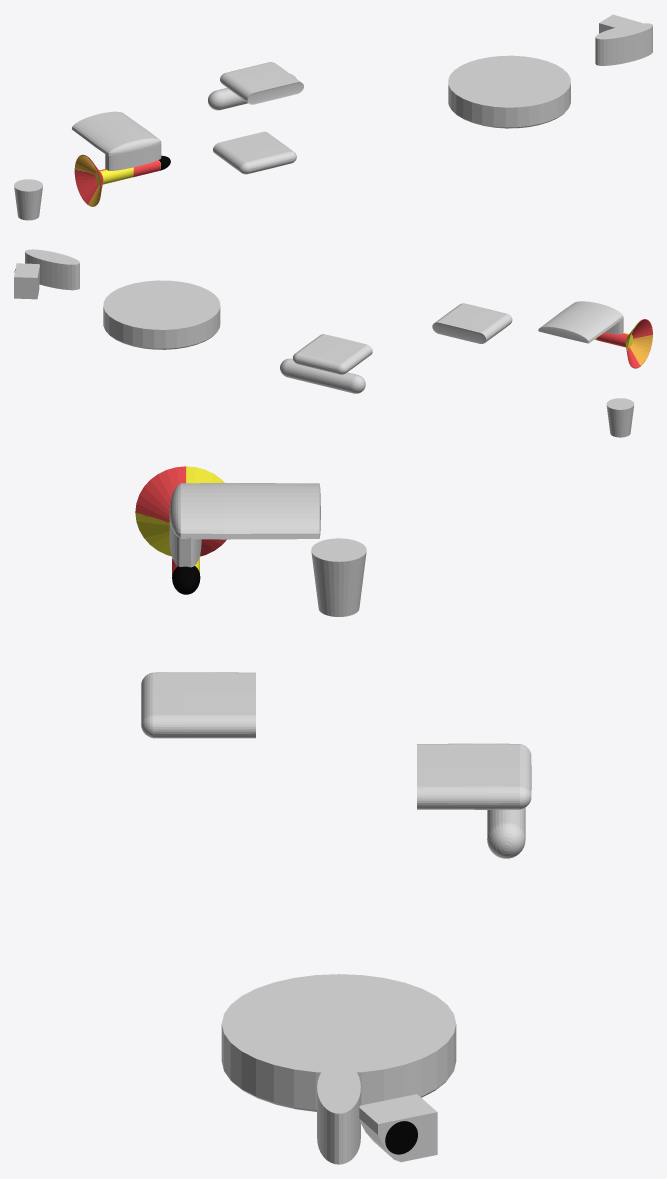
3 views of the same model, one above another, from view 1: azimuth 30°, elevation 25°; view 2: azimuth 150°, elevation 25°; view 3: azimuth 270°, elevation 25° (orthographic). The views are drawn at different scales.
Parts seen in each view (by area): view 1: 円柱, 球.002, 球, 球.001, 円柱.002, 円柱.005, 円柱.006, 円柱.003, 円柱.004, 円柱.001, 立方体; view 2: 円柱, 球.002, 球, 球.001, 円柱.002, 円柱.001, 円柱.005, 円柱.006, 立方体, 円柱.004; view 3: 円柱, 球.002, 球, 球.001, 円柱.002, 円柱.006, 円柱.005, 立方体, 円柱.001.
Part boxes in pixels (<box>): 円柱: <box>448,55,570,128</box>; 球.002: <box>72,111,161,155</box>; 球: <box>213,131,296,174</box>; 球.001: <box>220,62,303,104</box>; 円柱.002: <box>595,23,652,65</box>; 円柱.005: <box>74,154,103,206</box>; 円柱.006: <box>14,179,42,220</box>; 円柱.003: <box>105,143,161,170</box>; 円柱.004: <box>95,160,160,185</box>; 円柱.001: <box>208,74,296,110</box>; 立方体: <box>599,14,641,33</box>; 円柱: <box>103,280,220,349</box>; 球.002: <box>538,301,623,343</box>; 球: <box>432,303,512,343</box>; 球.001: <box>293,334,372,374</box>; 円柱.002: <box>25,249,79,290</box>; 円柱.001: <box>280,358,365,393</box>; 円柱.005: <box>625,319,652,368</box>; 円柱.006: <box>606,398,634,437</box>; 立方体: <box>14,263,39,299</box>; 円柱.004: <box>594,332,632,347</box>; 円柱: <box>221,974,456,1111</box>; 球.002: <box>169,483,320,539</box>; 球: <box>141,672,255,738</box>; 球.001: <box>417,743,531,809</box>; 円柱.002: <box>317,1061,360,1164</box>; 円柱.006: <box>311,538,366,616</box>; 円柱.005: <box>135,466,226,556</box>; 立方体: <box>359,1094,437,1162</box>; 円柱.001: <box>487,807,525,858</box>.
Bounding box in the file's own units: 9.61 × 1.4 × 2.72.
4 materials, 2 textured.
